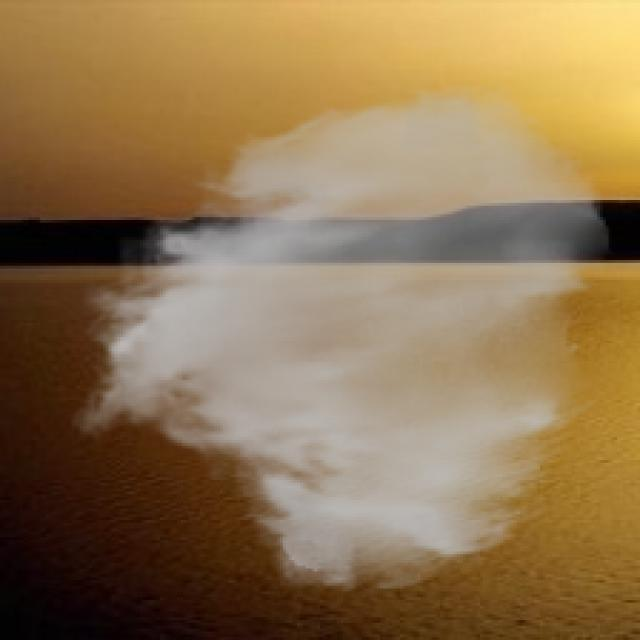Smoke: (68, 80, 614, 597)
